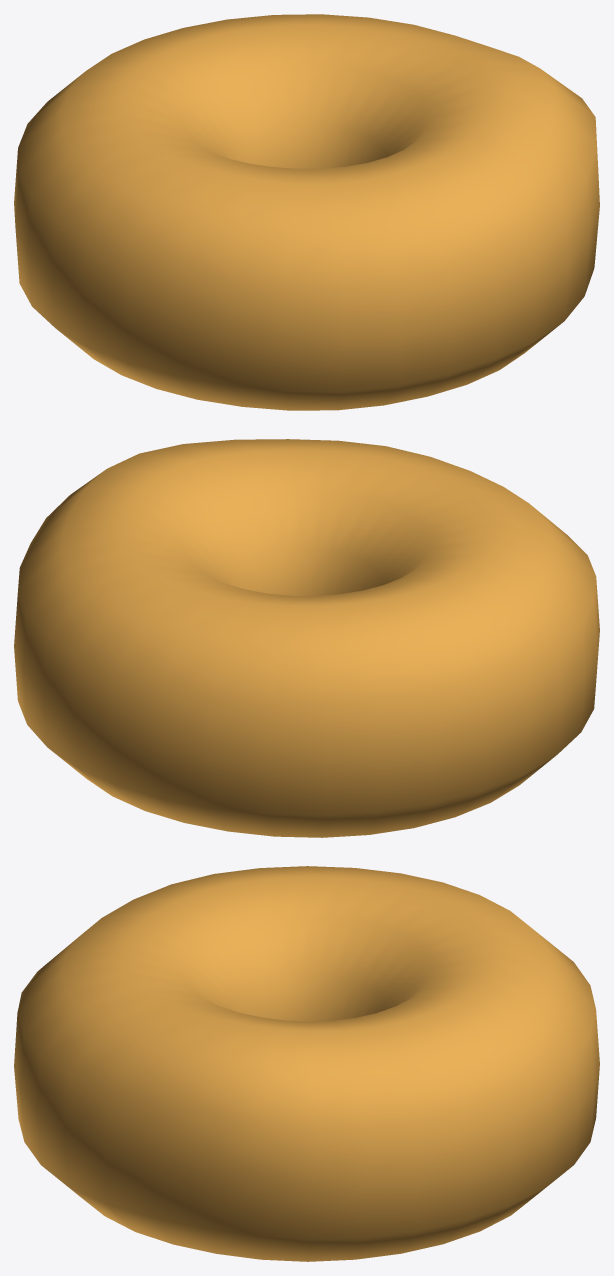
The model's file is donut.glb.
The picture shows the model from 3 angles, top to bottom: view 1: azimuth 30°, elevation 25°; view 2: azimuth 150°, elevation 25°; view 3: azimuth 270°, elevation 25°; orthographic projection.
Visible parts, largest first — view 1: Donut; view 2: Donut; view 3: Donut.
Part boxes in pixels (x1,y1,x2,y2): Donut: (14,14,599,410); Donut: (14,439,599,837); Donut: (14,866,599,1261).
Bounding box in the file's own units: 1.47 × 0.6226 × 1.46.
